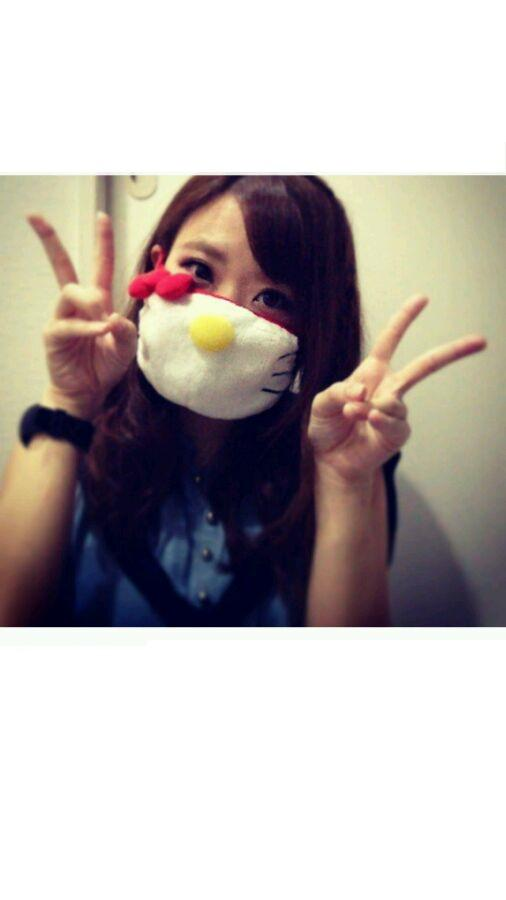OK: (141, 232, 318, 409)
